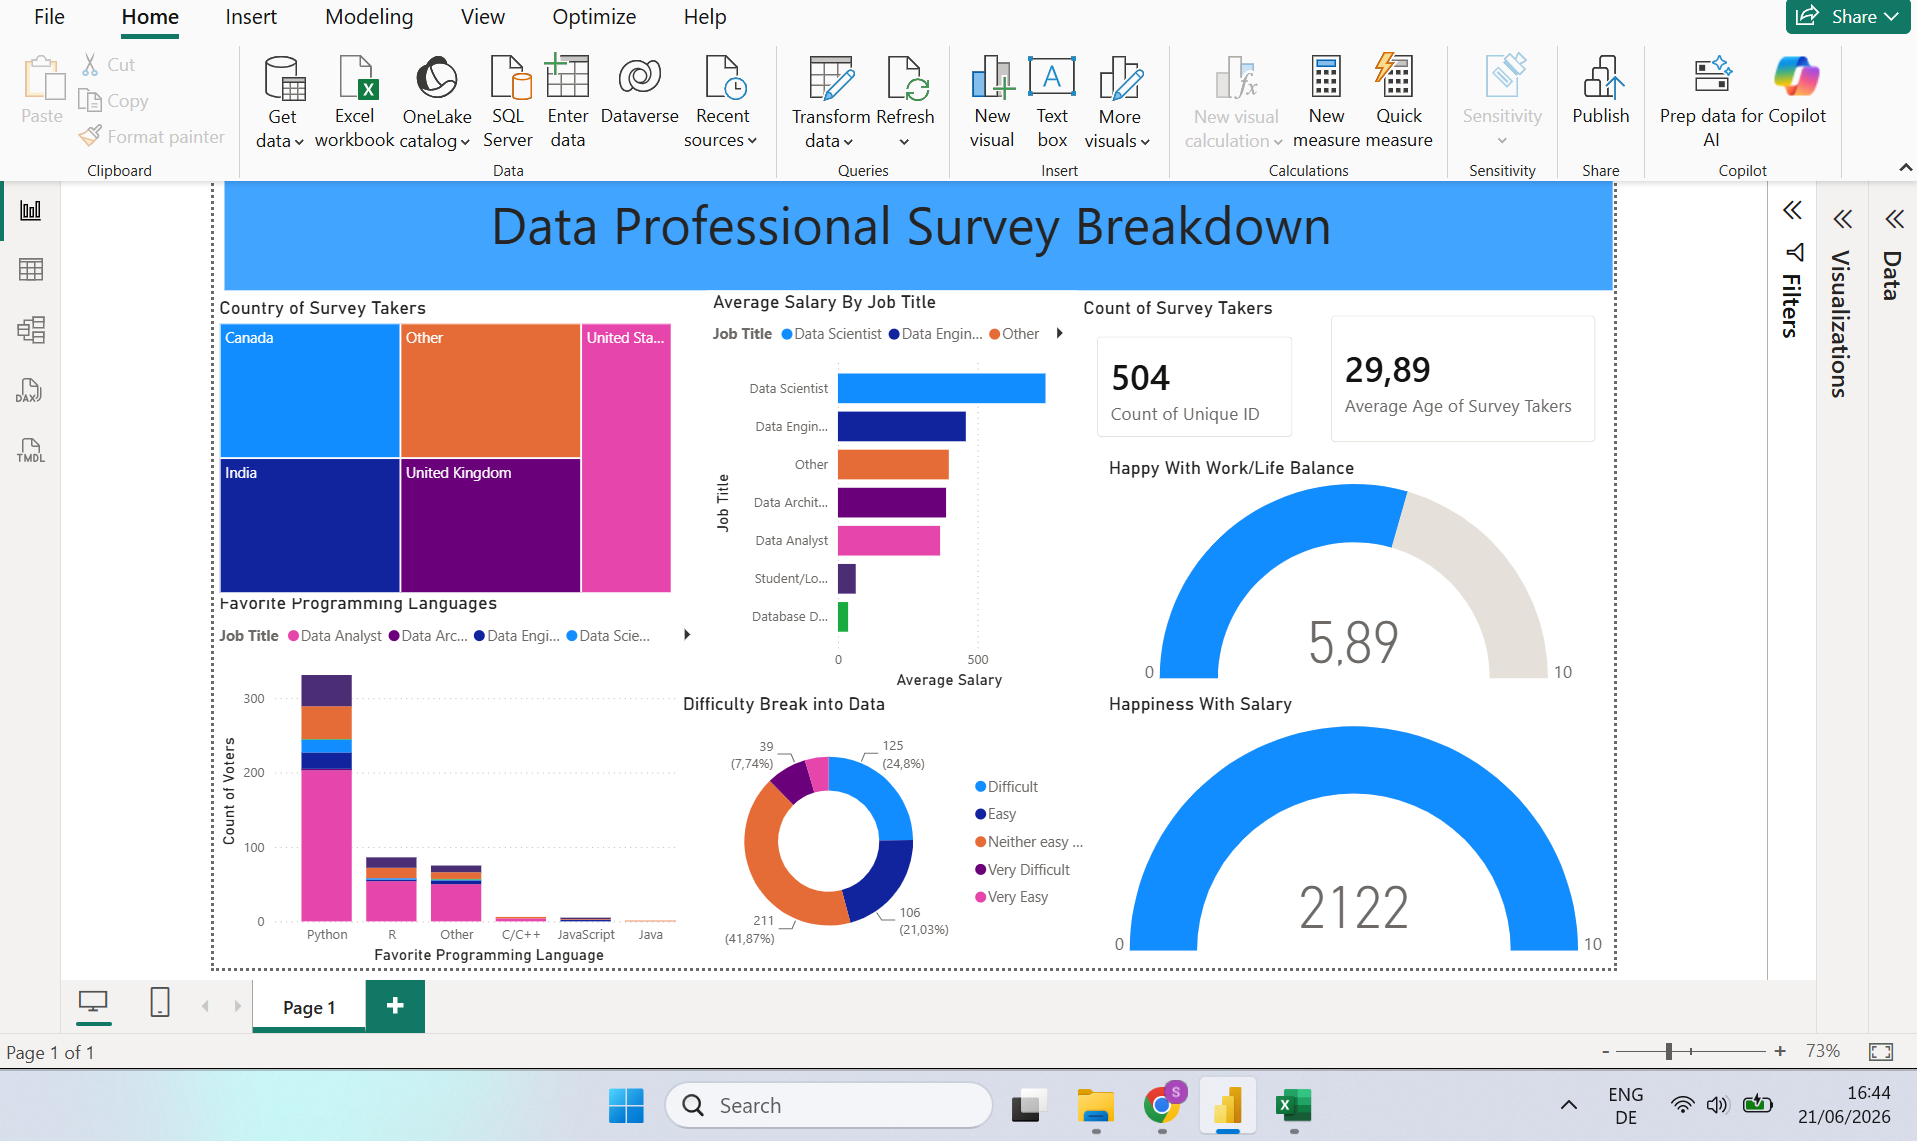

Layout of this report page (visuals, bound fields, positions):
{"tool":"powerbi","page":{"name":"Page 1","canvas":[1280,720],"ordinal":0},"visuals":[{"type":"textbox","box":[9.4,0,1269.9,100.2],"z":0},{"type":"cardVisual","title":"Count of Survey Takers","fields":{"Data":["Count(Data Professional Survey.Unique ID)"]},"box":[789.9,105.8,213.5,145.5],"z":1000},{"type":"cardVisual","fields":{"Data":["Avg(Data Professional Survey.Q10 - Current Age)"]},"box":[1004,106,276,150],"z":2000},{"type":"barChart","title":"Average Salary By Job Title","fields":{"Category":["Data Professional Survey.Q1 - Which Title Best Fits your Current Role?.1"],"Y":["Avg(Data Professional Survey.Average Salary Column)"],"Series":["Data Professional Survey.Q1 - Which Title Best Fits your Current Role?.1"]},"box":[451.7,100.2,338.3,368.5],"z":3000},{"type":"columnChart","title":"Favorite Programming Languages","fields":{"Category":["Data Professional Survey.Q5 - Favorite Programming Language.1"],"Y":["CountNonNull(Data Professional Survey.Q5 - Favorite Programming Language.1)"],"Series":["Data Professional Survey.Q1 - Which Title Best Fits your Current Role?.1"]},"box":[0,376,452,344],"z":4000},{"type":"treemap","title":"Country of Survey Takers","fields":{"Group":["Data Professional Survey.Q11 - Which Country do you live in?.1"],"Values":["Count(Data Professional Survey.Q11 - Which Country do you live in?.1)"]},"box":[0,105.8,423.3,275.9],"z":5000},{"type":"gauge","title":"Happy With Work/Life Balance","fields":{"Y":["Avg(Data Professional Survey.Q6 - How Happy are you in your Current Position with the following? (Coworkers))"],"MinValue":["Min(Data Professional Survey.Q6 - How Happy are you in your Current Position with the following? (Coworkers))1"],"MaxValue":["Max(Data Professional Survey.Q6 - How Happy are you in your Current Position with the following? (Coworkers))2"]},"box":[814,252,466,212],"z":6000},{"type":"gauge","title":"Happiness With Salary","fields":{"Y":["Sum(Data Professional Survey.Q6 - How Happy are you in your Current Position with the following? (Salary))"],"MinValue":["Min(Data Professional Survey.Q6 - How Happy are you in your Current Position with the following? (Salary))"],"MaxValue":["Max(Data Professional Survey.Q6 - How Happy are you in your Current Position with the following? (Salary))"]},"box":[814,468,466,252],"z":7000},{"type":"donutChart","title":"Difficulty Break into Data","fields":{"Y":["CountNonNull(Data Professional Survey.Q7 - How difficult was it for you to break into Data?)"],"Series":["Data Professional Survey.Q7 - How difficult was it for you to break into Data?"]},"box":[424,468,390,252],"z":8000}]}

Visuals, with their boxes on the page's 1280x720 design canvas (x1, y1, x2, y2). These are canvas units, not pixel positions in the 1917x1141 screenshot, which may show the page scaled, cropped or inside an application window:
textbox: 9/0/1279/100
"Count of Survey Takers" cardVisual: 790/106/1003/251
cardVisual - Avg(Data Professional Survey.Q10 - Current Age): 1004/106/1280/256
"Average Salary By Job Title" barChart: 452/100/790/469
"Favorite Programming Languages" columnChart: 0/376/452/720
"Country of Survey Takers" treemap: 0/106/423/382
"Happy With Work/Life Balance" gauge: 814/252/1280/464
"Happiness With Salary" gauge: 814/468/1280/720
"Difficulty Break into Data" donutChart: 424/468/814/720
